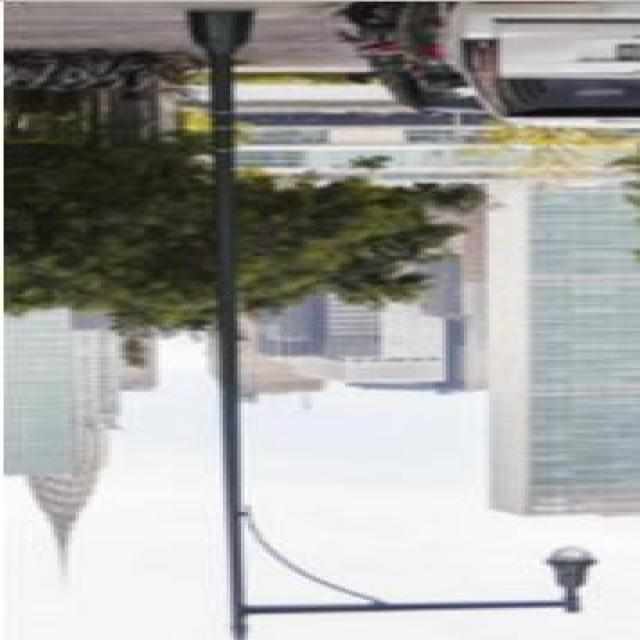off: (240, 503, 618, 622)
